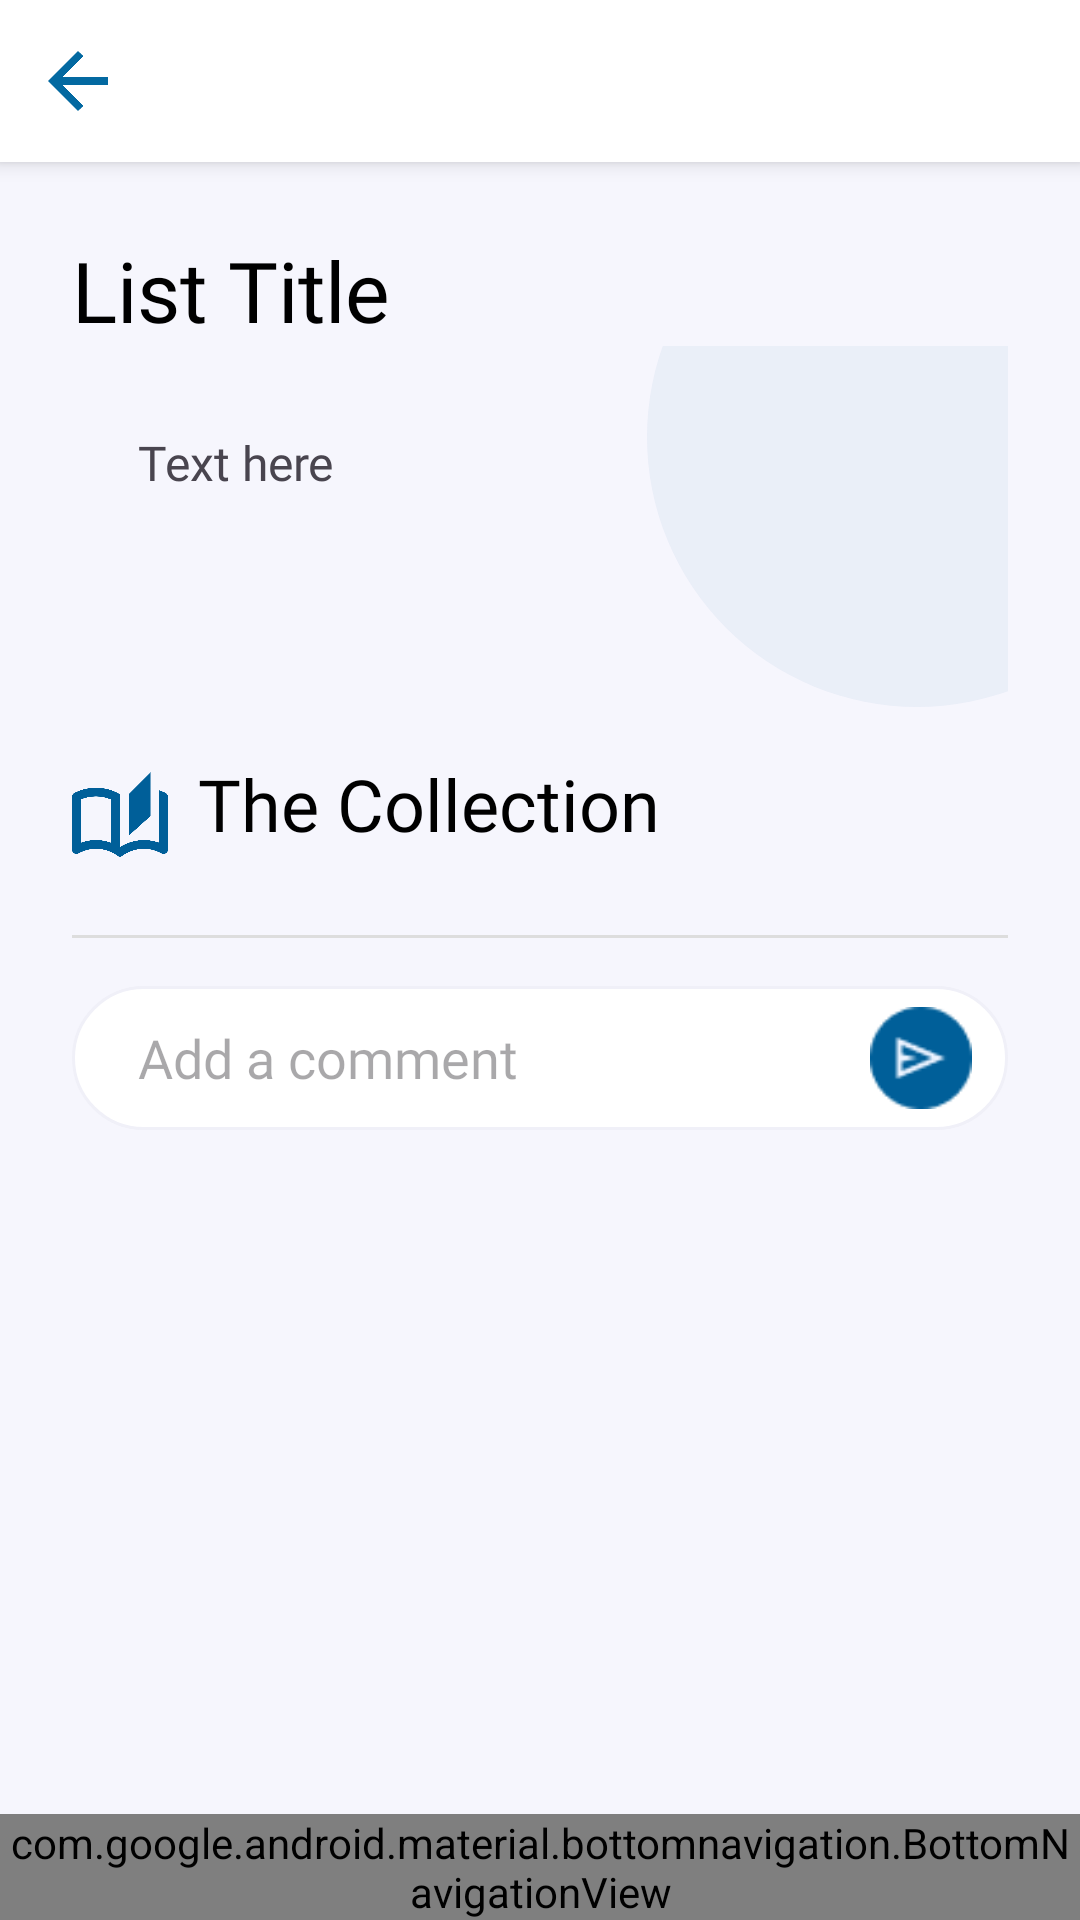

Screen size 1080 × 1920. Icon name, then its center in pixels as [x,y]:
Back: [78,81]
Send comment: [921,1058]
